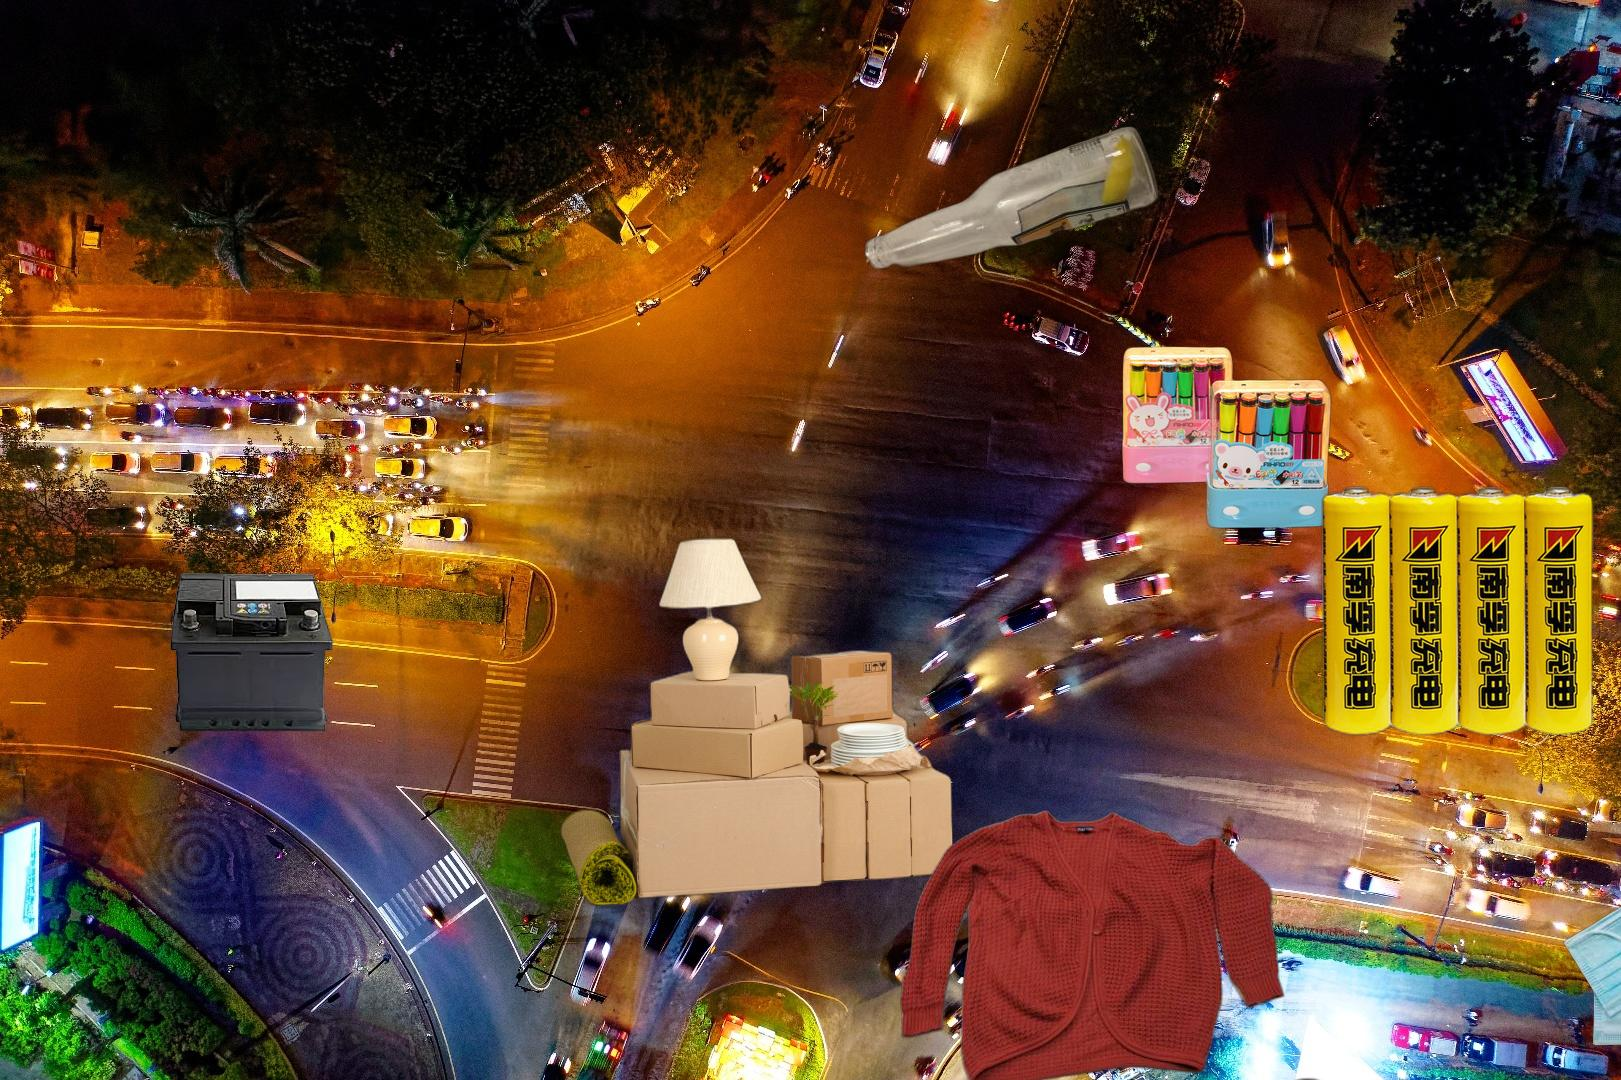battery: (1316, 481, 1598, 740), (168, 570, 335, 734)
clothes: (898, 806, 1287, 1080), (1135, 1075, 1527, 1080)
glass: (861, 123, 1163, 272)
penholder: (1118, 344, 1334, 532)
trash: (1561, 857, 1621, 1047)
trashbox-cardboard: (557, 532, 957, 911)
